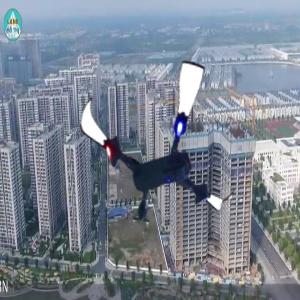drone: (67, 56, 246, 235)
